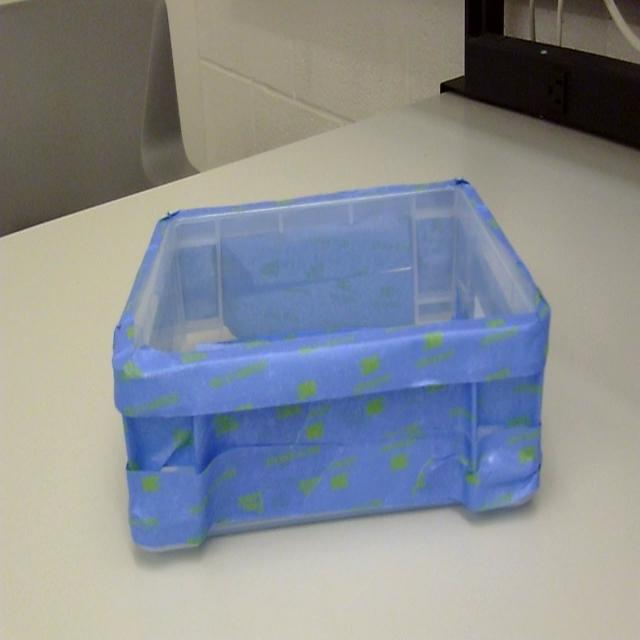bucket: (112, 180, 552, 556)
